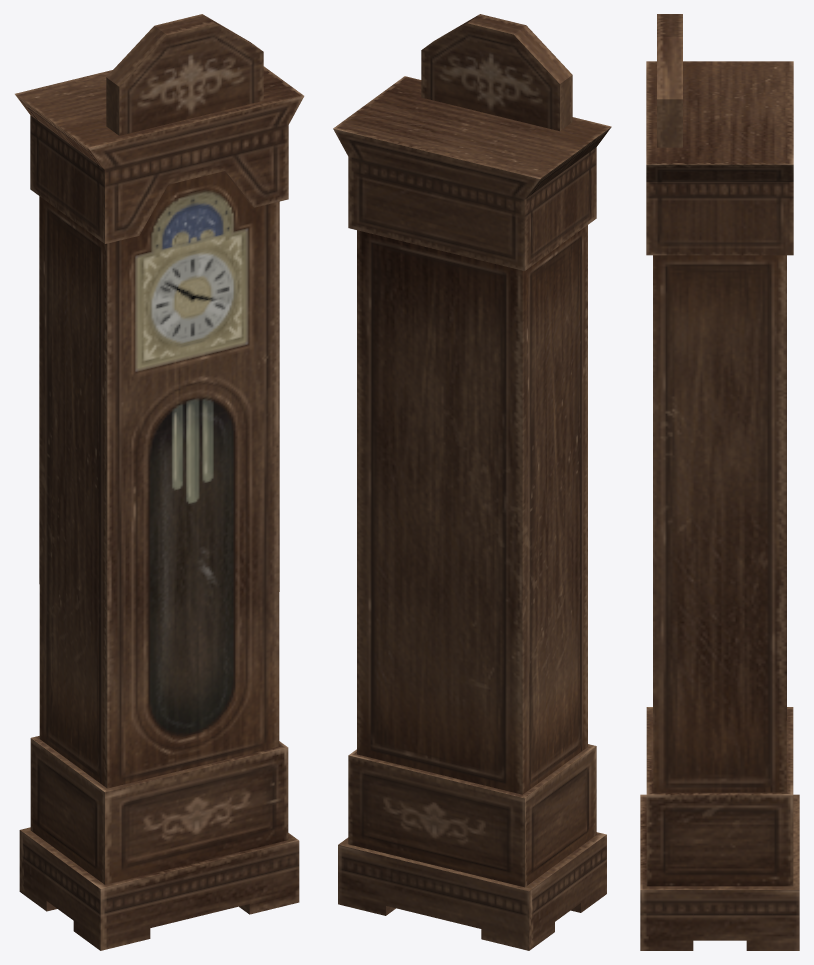
File: Grandfather.Clock.fbx
3 renders of one model, left to right at view 1: azimuth 30°, elevation 25°; view 2: azimuth 150°, elevation 25°; view 3: azimuth 270°, elevation 25°, orthographic. The views are drawn at different scales.
Visible parts, largest first — view 1: Grandfather.Clock; view 2: Grandfather.Clock; view 3: Grandfather.Clock.
Boxes of the visible parts, bbox=[...] form: Grandfather.Clock: bbox=[15, 14, 304, 950]; Grandfather.Clock: bbox=[333, 14, 611, 950]; Grandfather.Clock: bbox=[640, 14, 799, 950].
Size of the model in its own units: 56.21 by 222 by 36.53.
